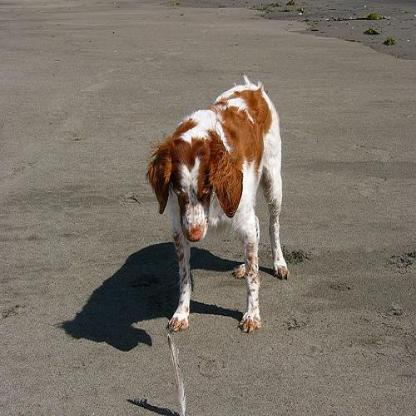Brittany_spaniel: (144, 71, 289, 333)
